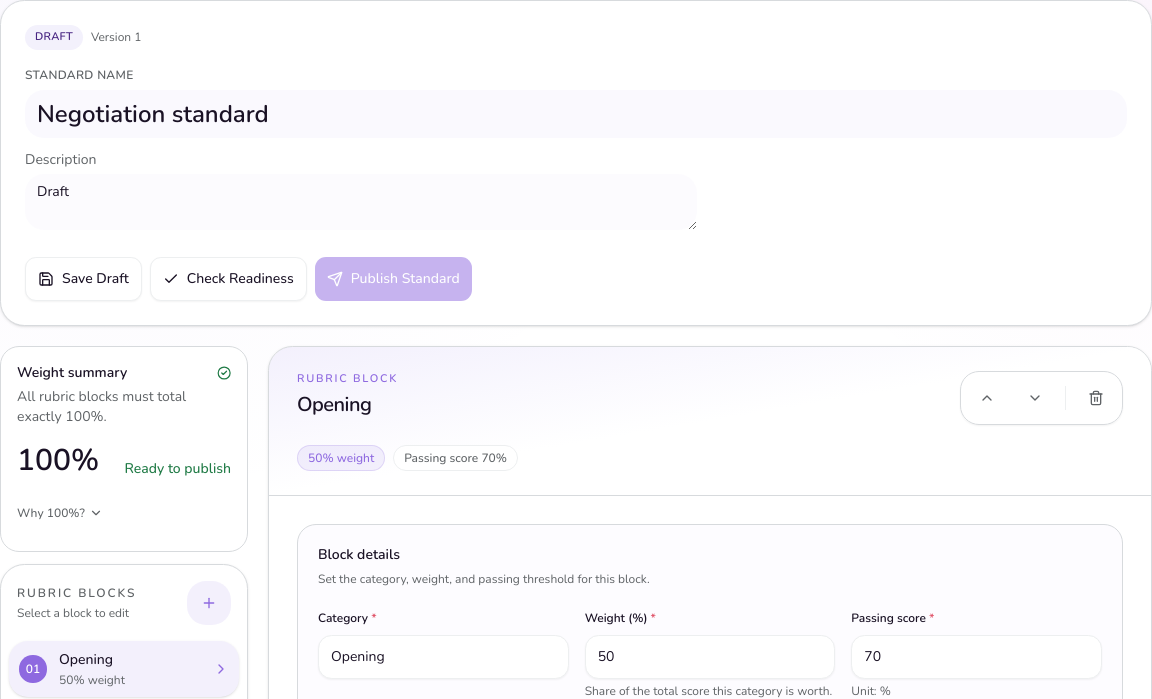
Test case: StandardEditor publish and archive confirmation copy › names the target version and explains publishing is irreversible
This screenshot has width=1152, height=699.
Click the button "Check Readiness".
click(228, 278)  # box left=150, top=256, right=307, bottom=300
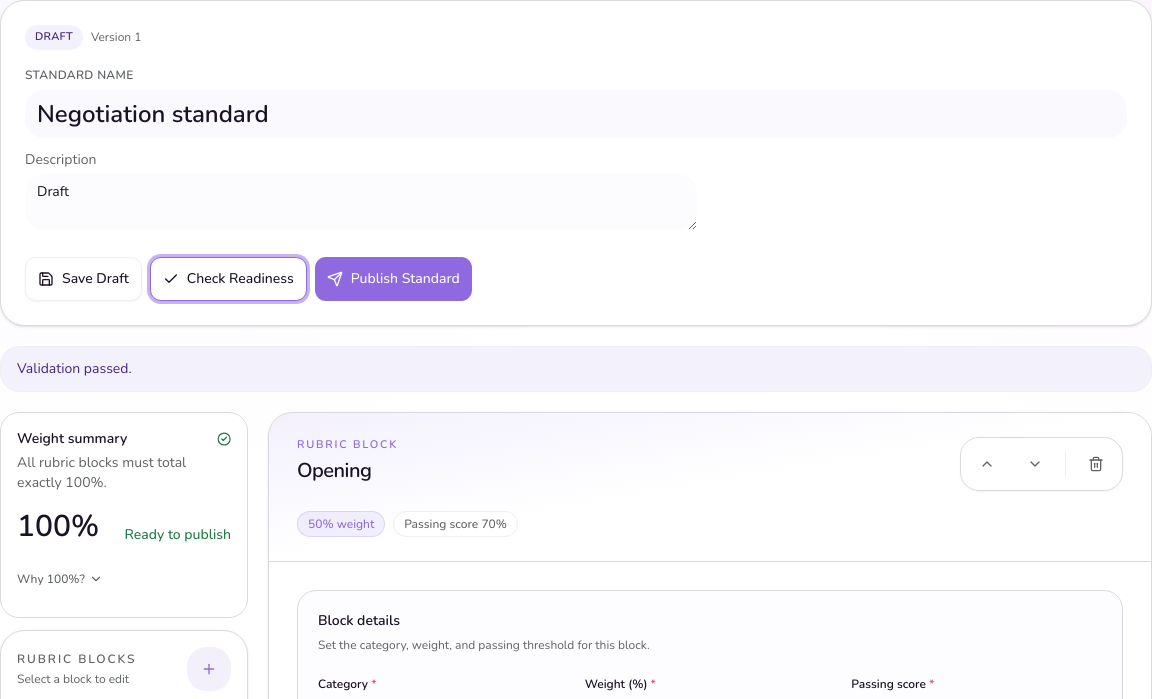
Expected: the button "Publish Standard" is enabled
Click the button "Publish Standard".
click(393, 278)  # box left=315, top=256, right=472, bottom=300
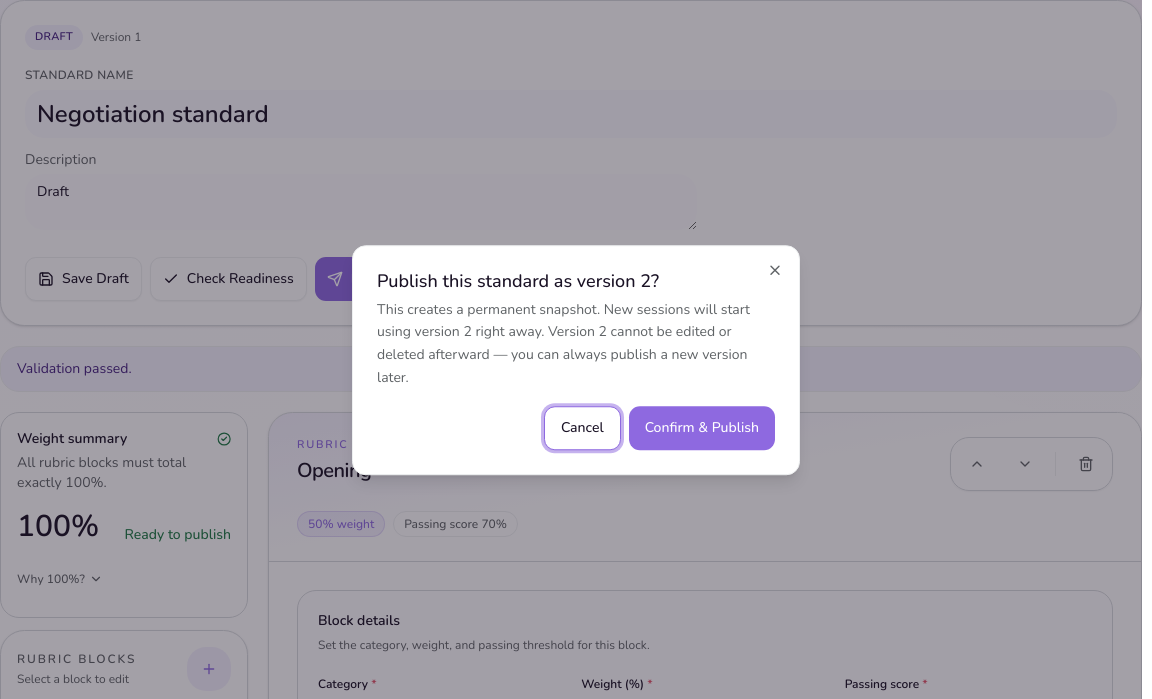
Expected: the heading "Publish this standard as version 2?" is shown, left=377, top=269, right=659, bottom=293
Expected: the text "This creates a permanent snapshot. New sessions will start using version 2 right away. Version 2 cannot be edited or del" is shown, left=377, top=299, right=775, bottom=390
